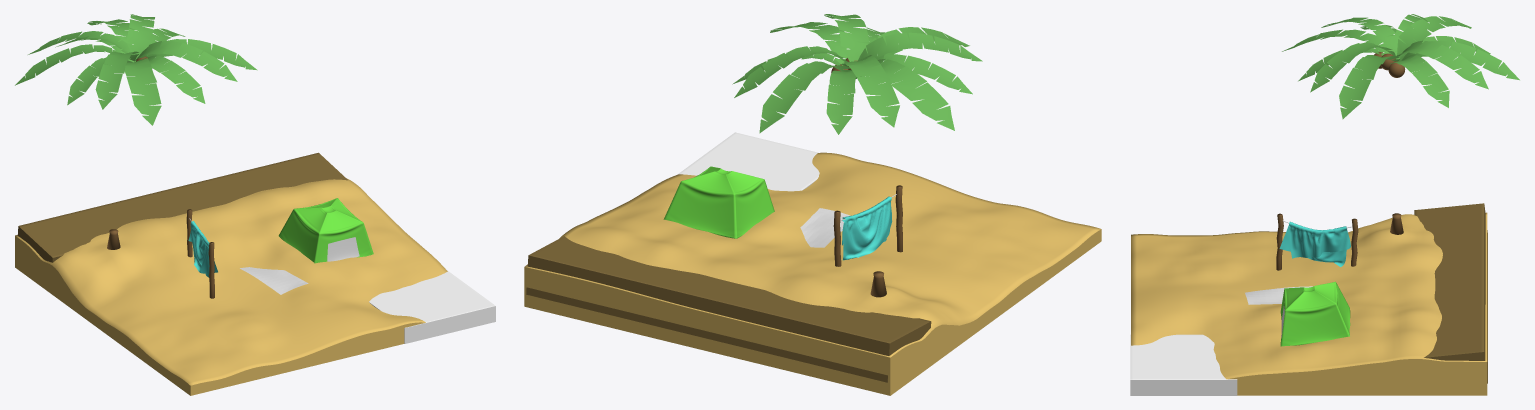
File: 阳光沙滩.glb
The picture shows the model from 3 angles, left to right: view 1: azimuth 30°, elevation 25°; view 2: azimuth 150°, elevation 25°; view 3: azimuth 270°, elevation 25°; orthographic projection. The views are drawn at different scales.
Visible parts, largest first — view 1: Cube, 立方体.001, 立方体, 立方体.002, 平面.003, 平面.009, 平面.011, 平面.005, 平面, 平面.012, 平面.001, 平面.010 (+5 smaller); view 2: Cube, 立方体.001, 立方体.002, 立方体, 平面.013, 平面, 平面.002, 平面.008, 平面.011, 平面.004, 平面.010, 平面.009 (+4 smaller); view 3: Cube, 立方体.001, 立方体, 立方体.002, 平面.013, 平面.001, 平面.010, 平面.006, 平面.002, 平面.008, 平面.009, 平面.011 (+4 smaller).
Part boxes in pixels (<box>): Cube: <box>15,178,447,395</box>; 立方体.001: <box>17,152,347,262</box>; 立方体: <box>369,269,495,343</box>; 立方体.002: <box>278,198,373,263</box>; 平面.003: <box>124,57,161,125</box>; 平面.009: <box>135,41,237,81</box>; 平面.011: <box>95,51,138,109</box>; 平面.005: <box>148,55,205,103</box>; 平面: <box>15,44,116,85</box>; 平面.012: <box>240,267,308,294</box>; 平面.001: <box>145,39,257,70</box>; 平面.010: <box>126,14,154,60</box>; Cube: <box>524,152,1101,395</box>; 立方体.001: <box>526,236,931,382</box>; 立方体.002: <box>663,166,774,238</box>; 立方体: <box>677,132,819,191</box>; 平面.013: <box>842,196,892,260</box>; 平面: <box>877,59,954,130</box>; 平面.002: <box>759,61,851,133</box>; 平面.008: <box>840,55,899,127</box>; 平面.011: <box>858,32,982,61</box>; 平面.004: <box>826,70,856,134</box>; 平面.010: <box>734,46,847,97</box>; 平面.009: <box>824,14,868,61</box>; Cube: <box>1131,212,1487,395</box>; 立方体.001: <box>1414,203,1487,383</box>; 立方体: <box>1130,334,1237,395</box>; 立方体.002: <box>1280,281,1350,346</box>; 平面.013: <box>1279,221,1350,266</box>; 平面.001: <box>1339,55,1399,119</box>; 平面.010: <box>1396,40,1488,89</box>; 平面.006: <box>1390,54,1449,107</box>; 平面.002: <box>1401,40,1519,80</box>; 平面.008: <box>1397,16,1471,58</box>; 平面.009: <box>1310,42,1395,92</box>; 平面.011: <box>1321,17,1400,55</box>.
Size of the model in its own units: 10.92 by 7.64 by 10.95.
